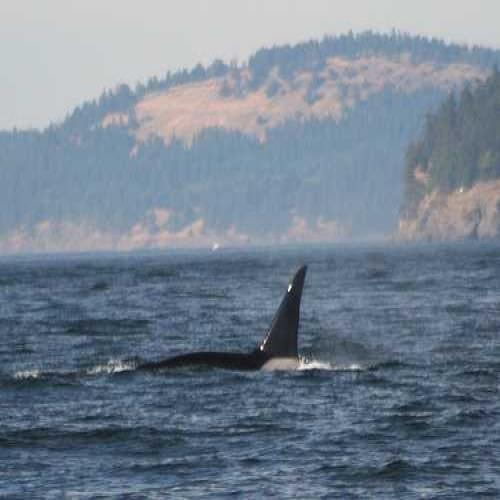killer_whale-endangered: (103, 242, 397, 386)
